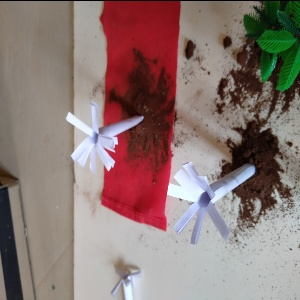plant: (238, 2, 300, 78)
weed: (162, 157, 274, 232), (57, 102, 155, 173), (105, 261, 152, 300)
